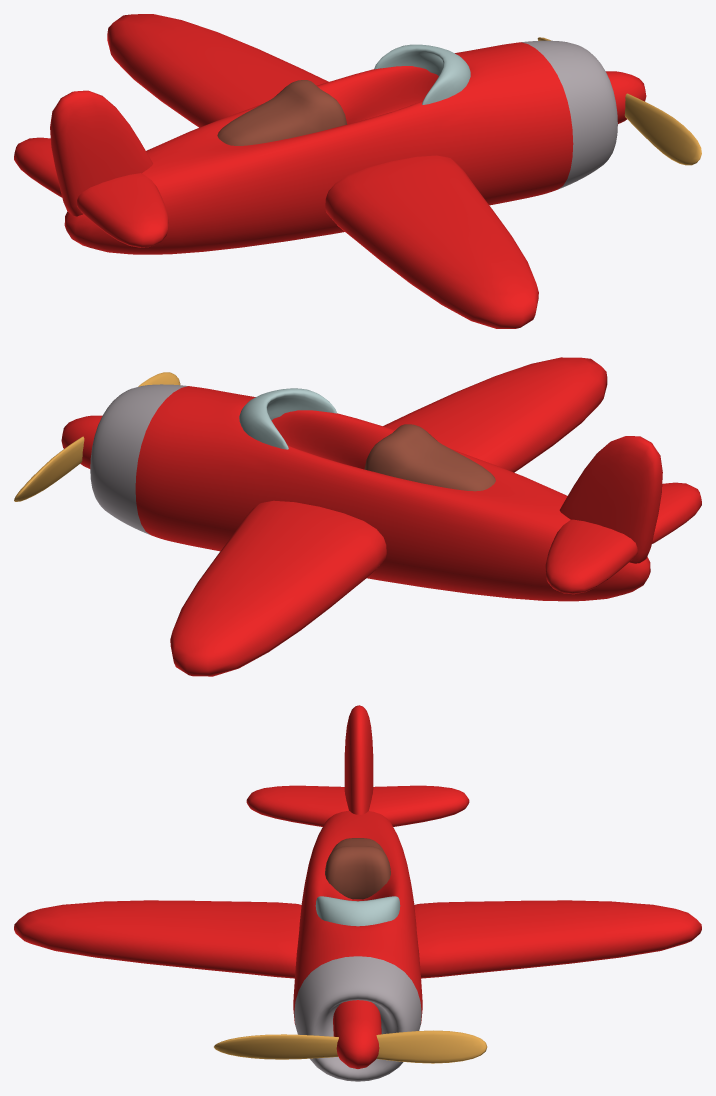
The model's file is avion-jouet.glb.
The picture shows the model from 3 angles, top to bottom: view 1: azimuth 30°, elevation 25°; view 2: azimuth 150°, elevation 25°; view 3: azimuth 270°, elevation 25°; orthographic projection. The views are drawn at different scales.
Parts seen in each view (by area): view 1: Cube, Cube.004, Cube.005; view 2: Cube, Cube.004, Cube.005; view 3: Cube, Cube.004, Cube.005.
Part boxes in pixels (x1,y1,x2,y2): Cube: (14, 14, 701, 328); Cube.004: (217, 80, 347, 145); Cube.005: (374, 44, 470, 104); Cube: (14, 357, 701, 676); Cube.004: (364, 424, 495, 491); Cube.005: (239, 388, 337, 449); Cube: (14, 705, 701, 1081); Cube.004: (325, 838, 390, 899); Cube.005: (315, 896, 400, 926).
Bounding box in the file's own units: 24.1 × 8.02 × 28.57.
